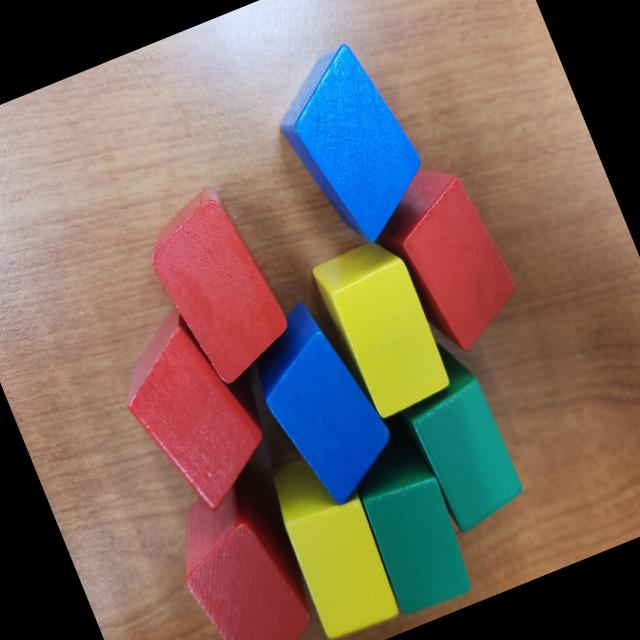blue: (258, 32, 442, 258), (233, 286, 409, 516)
green: (375, 329, 532, 541), (339, 430, 482, 619)
red: (99, 294, 286, 528), (352, 150, 534, 368), (133, 178, 304, 396), (155, 467, 331, 640)
yellow: (258, 440, 406, 640), (308, 231, 457, 424)
